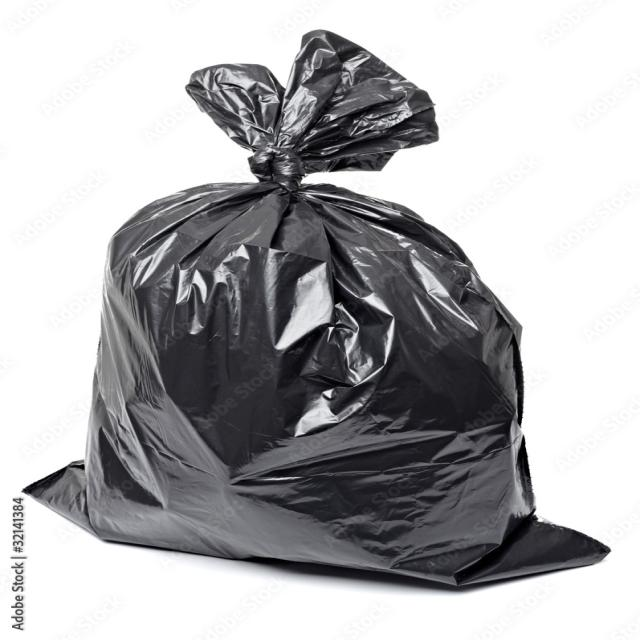trash: (55, 33, 603, 600)
